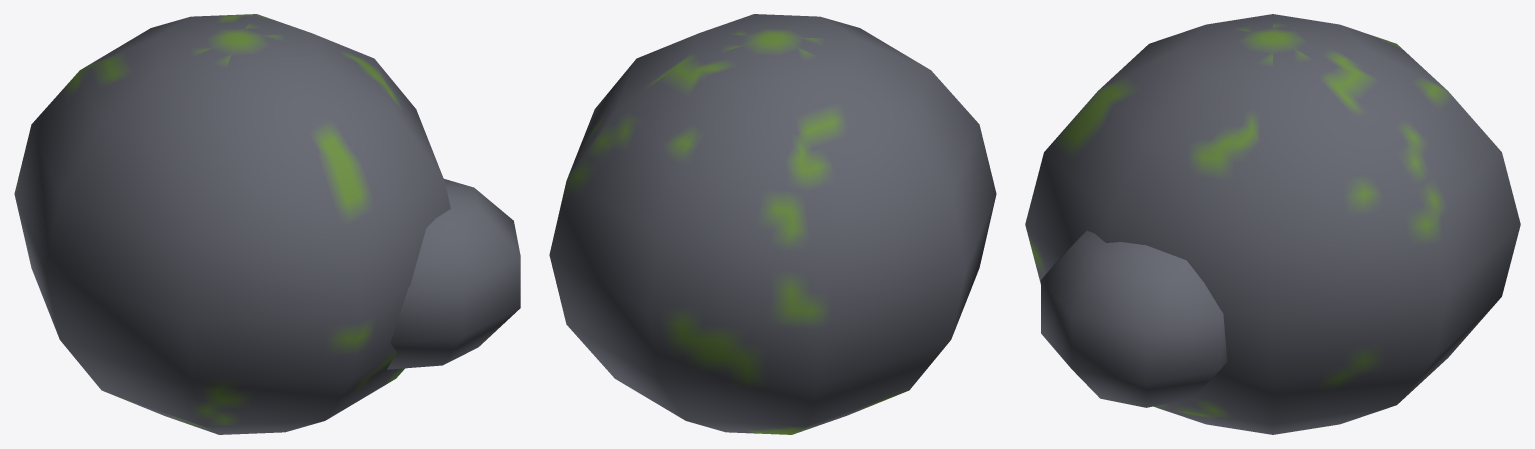
File: prop_rock2_50f2.glb
3 views of the same model, side by side, from view 1: azimuth 30°, elevation 25°; view 2: azimuth 150°, elevation 25°; view 3: azimuth 270°, elevation 25° (orthographic).
Parts seen in each view (by area): view 1: prop_rock2_50f2; view 2: prop_rock2_50f2; view 3: prop_rock2_50f2.
Boxes of the visible parts, x1,y1,x2,y2 form: prop_rock2_50f2: (14, 14, 520, 434); prop_rock2_50f2: (549, 14, 996, 434); prop_rock2_50f2: (1025, 14, 1520, 434).
Size of the model in its own units: 0.6575 by 0.581 by 0.6918.
1 material, 1 textured.
